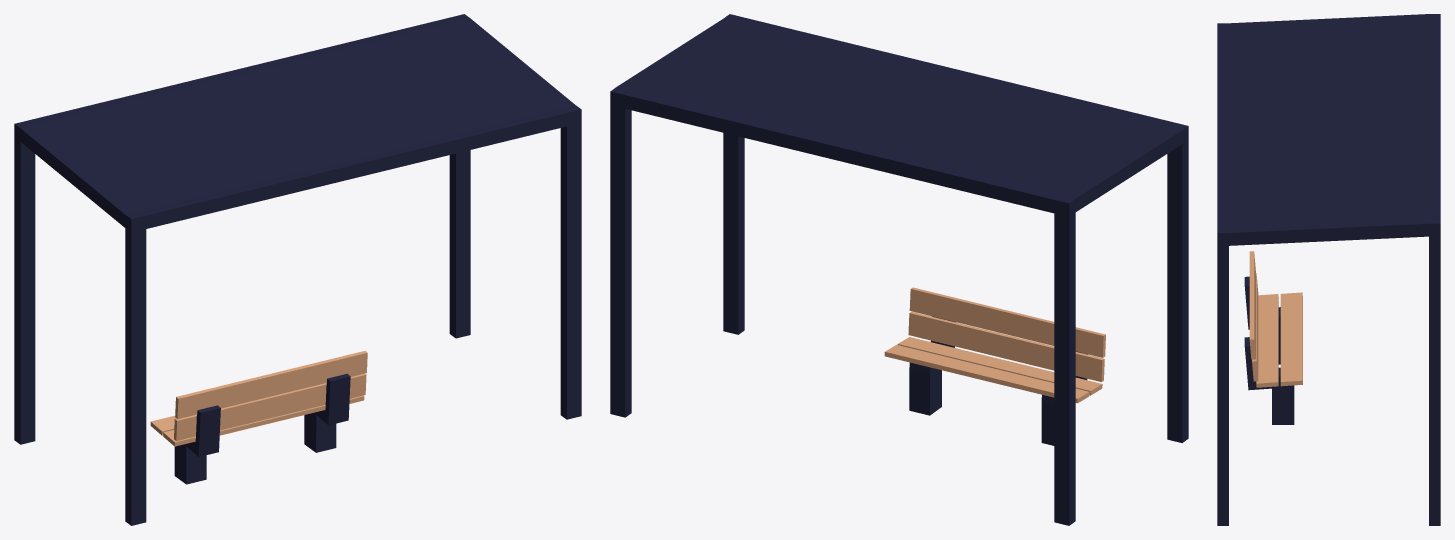
File: bus_stop.fbx
The picture shows the model from 3 angles, left to right: view 1: azimuth 30°, elevation 25°; view 2: azimuth 150°, elevation 25°; view 3: azimuth 270°, elevation 25°; orthographic projection. The views are drawn at different scales.
Parts seen in each view (by area): view 1: Cube.003, Cube.004, Cube.007, Cube.008, Cube.006; view 2: Cube.003, Cube.007, Cube.008, Cube.005, Cube.004, Cube.006; view 3: Cube.003, Cube.005, Cube.006, Cube.004, Cube.007, Cube.008.
Part boxes in pixels (x1,y1,x2,y2): Cube.003: (14, 14, 581, 525); Cube.004: (174, 373, 350, 484); Cube.007: (175, 350, 367, 419); Cube.008: (174, 373, 366, 440); Cube.006: (163, 395, 364, 446); Cube.003: (610, 14, 1188, 525); Cube.007: (909, 287, 1105, 357); Cube.008: (908, 312, 1104, 381); Cube.005: (884, 344, 1089, 403); Cube.004: (909, 316, 1087, 445); Cube.006: (897, 337, 1102, 395); Cube.003: (1217, 14, 1440, 525); Cube.005: (1280, 292, 1302, 386); Cube.006: (1256, 294, 1278, 387); Cube.004: (1244, 276, 1294, 424); Cube.007: (1249, 251, 1255, 359); Cube.008: (1252, 273, 1258, 381).
Size of the model in its own units: 117 by 78.84 by 52.87.
